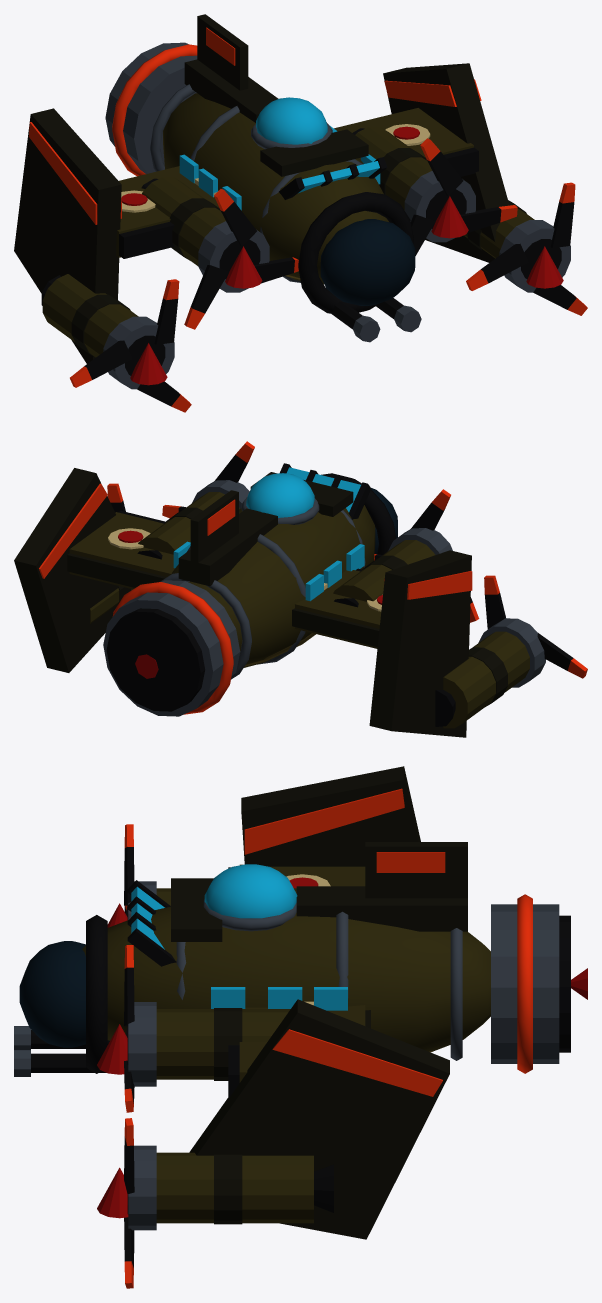
Rendered from Enemy_gunship.fbx.
The picture shows the model from 3 angles, top to bottom: view 1: azimuth 30°, elevation 25°; view 2: azimuth 150°, elevation 25°; view 3: azimuth 270°, elevation 25°; orthographic projection. The views are drawn at different scales.
Visible parts, largest first — view 1: Enemy_gunship; view 2: Enemy_gunship; view 3: Enemy_gunship.
Part boxes in pixels (bbox=[...]): Enemy_gunship: bbox=[14, 14, 587, 412]; Enemy_gunship: bbox=[14, 441, 587, 737]; Enemy_gunship: bbox=[14, 766, 587, 1288].
Size of the model in its own units: 1.25 by 0.5898 by 1.
